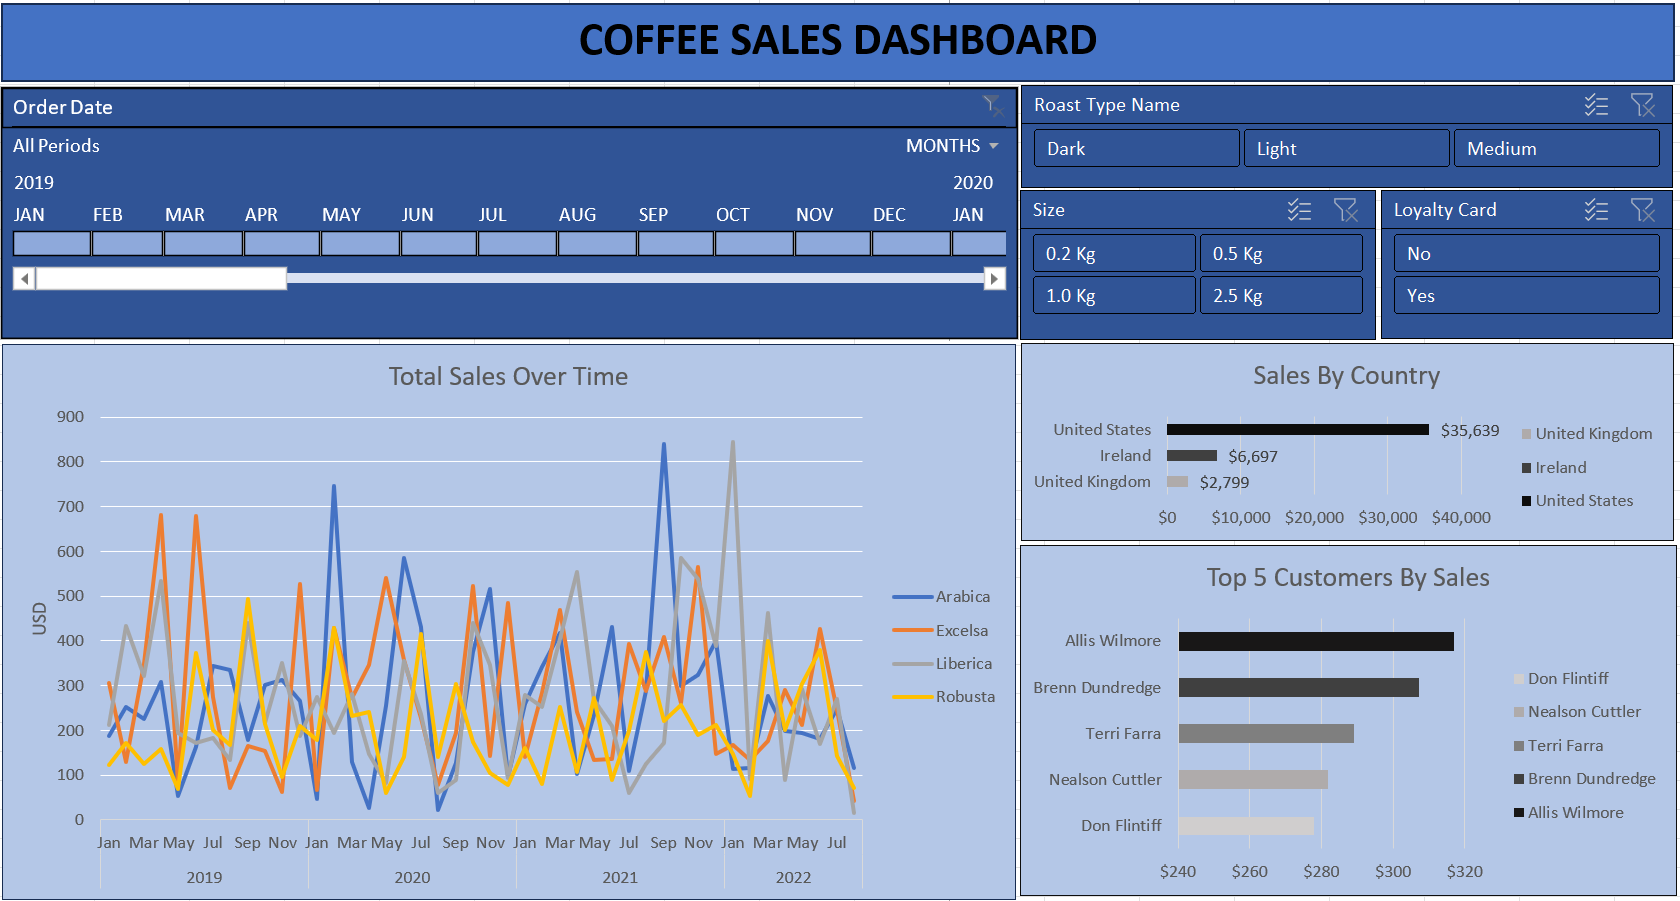

The dashboard page shown, as its layout file describes it:
{"tool":"powerbi","page":{"name":"Page 1","canvas":[1280,720],"ordinal":0},"visuals":[{"type":"lineChart","title":"Total Sales Over Time","fields":{"Y":["orders.Sales"],"Series":["orders.Coffee Type Name"],"Category":["orders.Order Date.Variation.Date Hierarchy.Year","orders.Order Date.Variation.Date Hierarchy.Month"]},"box":[0,377.4,1280.6,341.9],"z":0},{"type":"barChart","title":"Sales By Country","fields":{"Category":["orders.Country"],"Y":["orders.Sales"],"Series":["orders.Country"]},"box":[629,79,651.6,280.6],"z":1000},{"type":"barChart","title":"Top Five Customers By Sales","fields":{"Category":["orders.Customer Name"],"Y":["orders.Sales"],"Series":["orders.Customer Name"]},"box":[0,79,572.6,280.6],"z":2000},{"type":"textbox","box":[0,0,1280.6,66.1],"z":2001}]}

Visuals, with their boxes on the page's 1280x720 design canvas (x1, y1, x2, y2). These are canvas units, not pixel positions in the 1680x901 screenshot, which may show the page scaled, cropped or inside an application window:
"Total Sales Over Time" lineChart: box(0, 377, 1281, 719)
"Sales By Country" barChart: box(629, 79, 1281, 360)
"Top Five Customers By Sales" barChart: box(0, 79, 573, 360)
textbox: box(0, 0, 1281, 66)
